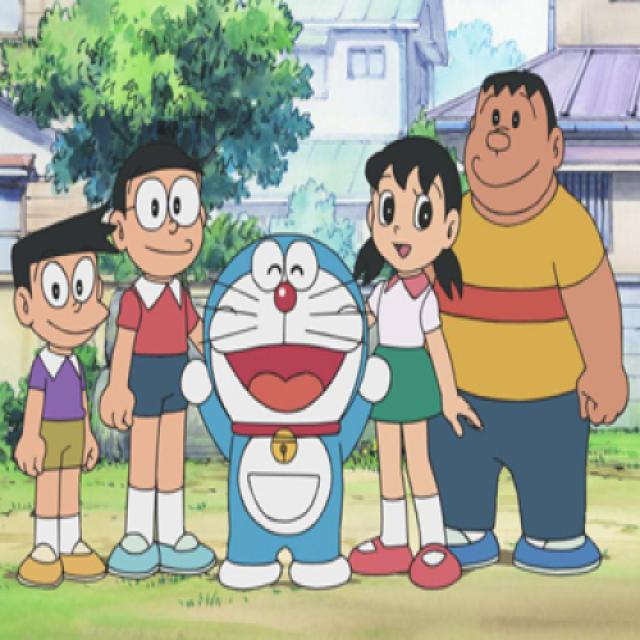doraemon: (192, 220, 383, 459)
jaian: (457, 59, 570, 236)
nobita: (105, 140, 209, 287)
shizuka: (348, 128, 470, 300)
suneo: (6, 200, 114, 358)
